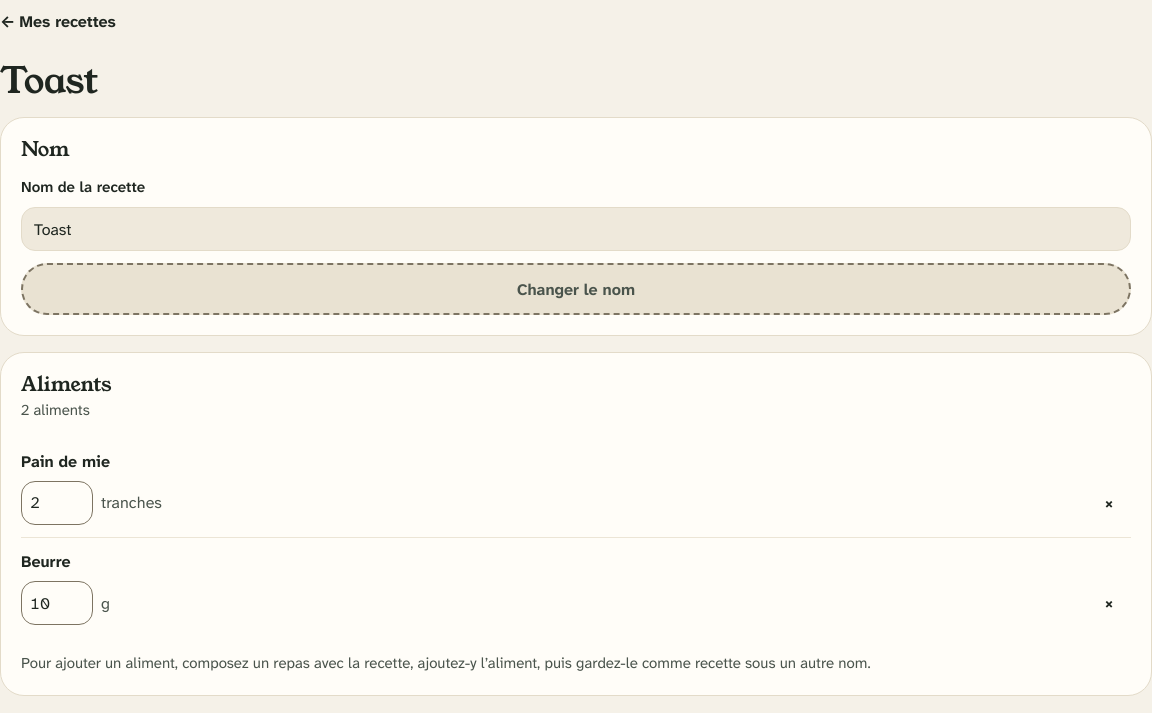
Test case: RecipeDetailView › renomme la recette, et refuse un nom déjà pris
Replace the text in the field labelled "Nom de la recette" with "Tartine" at {"x": 576, "y": 229}, box [21,207,1131,251]
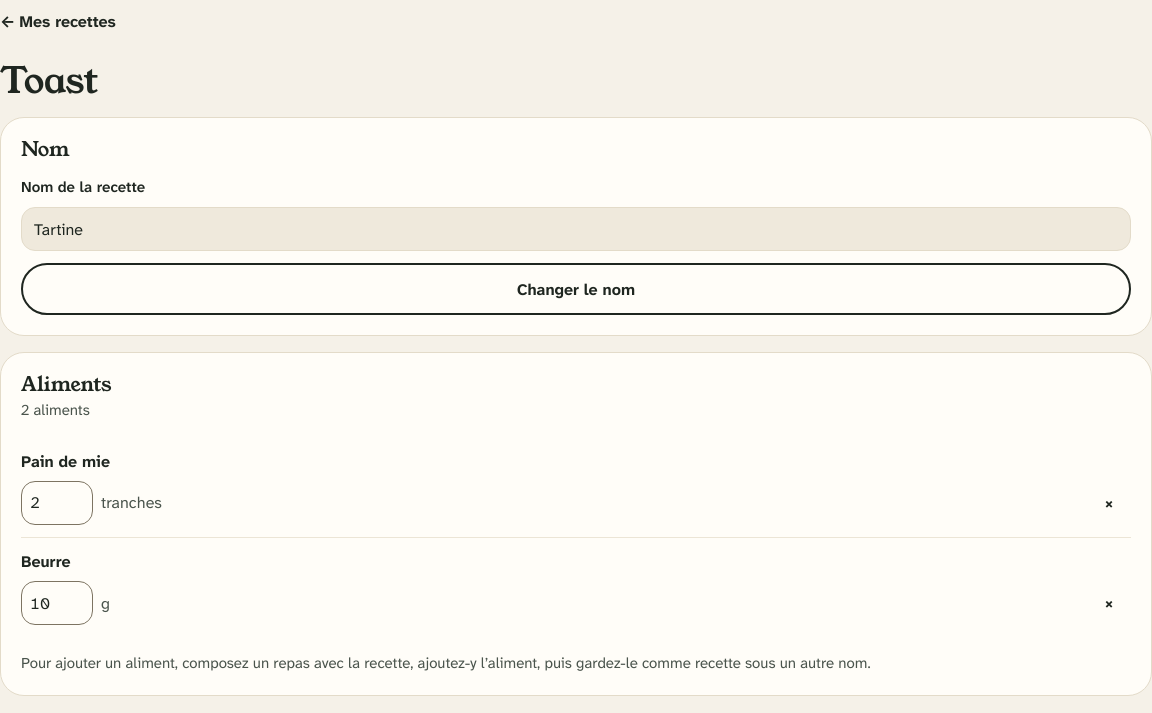
Submit the form with class "recipe__rename", box [21,177,1131,315]
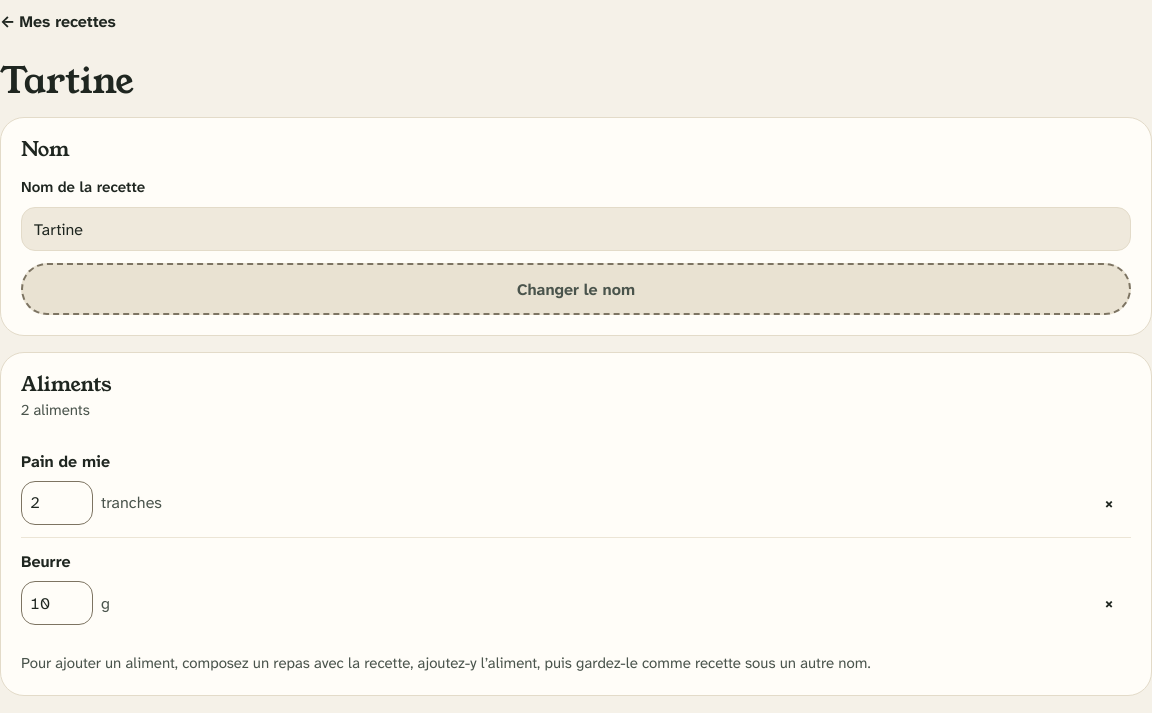
Expected: the heading "Tartine" is shown, [0,55,133,106]
Replace the text in the field labelled "Nom de la recette" with "poke bowl" at {"x": 576, "y": 229}, box [21,207,1131,251]
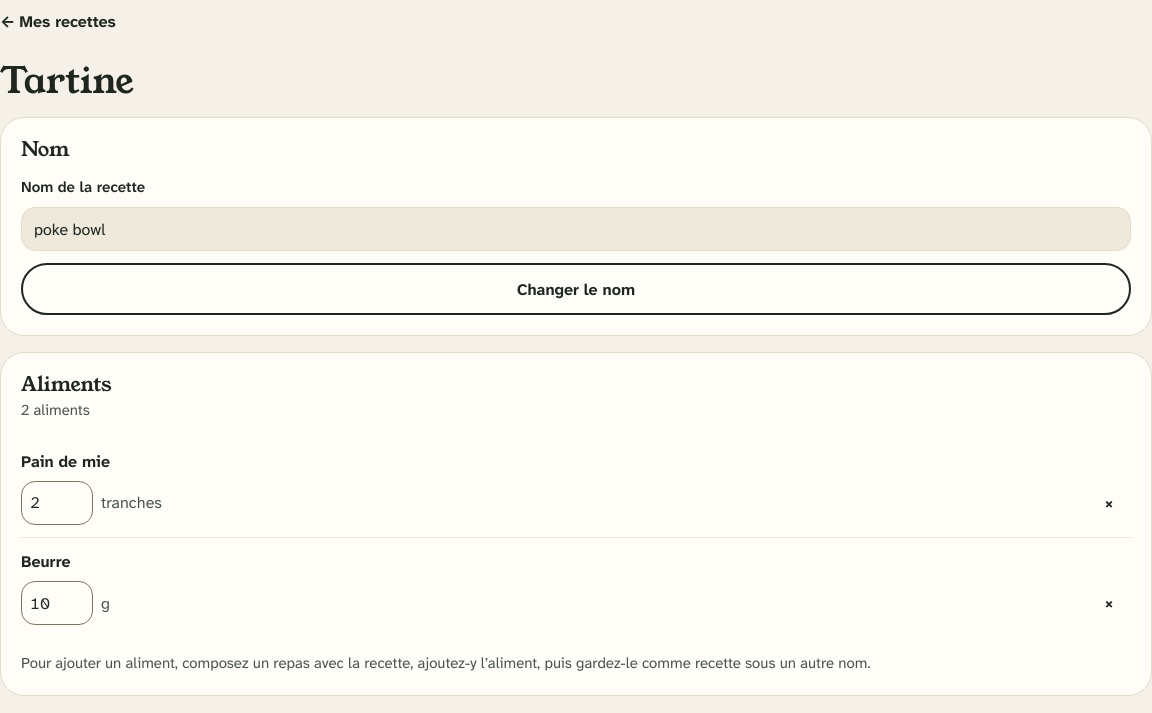
Submit the form with class "recipe__rename", box [21,177,1131,315]
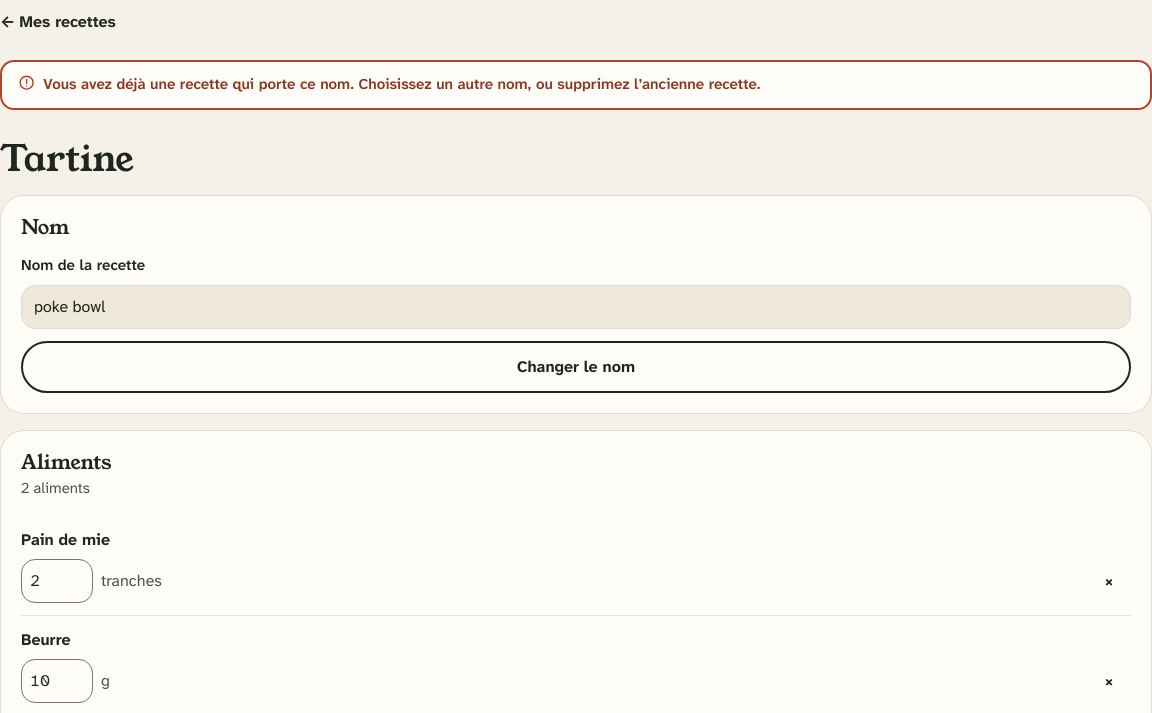
Expected: the heading "Tartine" is shown, [0,133,133,184]
Expected: the message shows "porte ce nom", [43,74,761,94]
